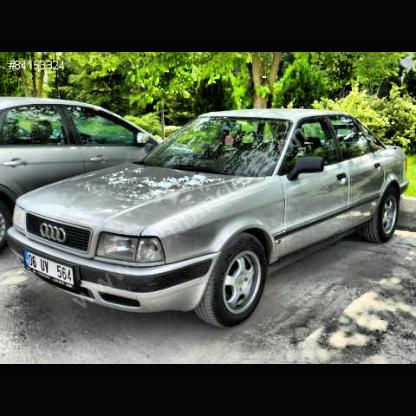Audi V8 Sedan 1994: (7, 110, 412, 331)
